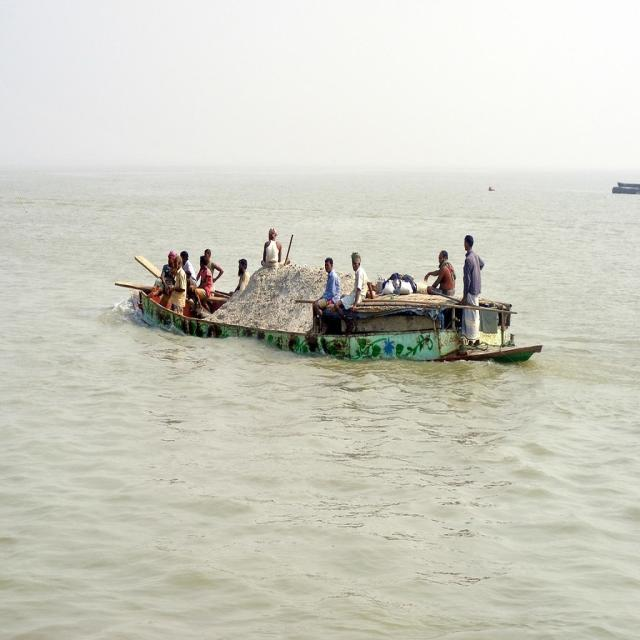boat: (115, 268, 549, 374)
